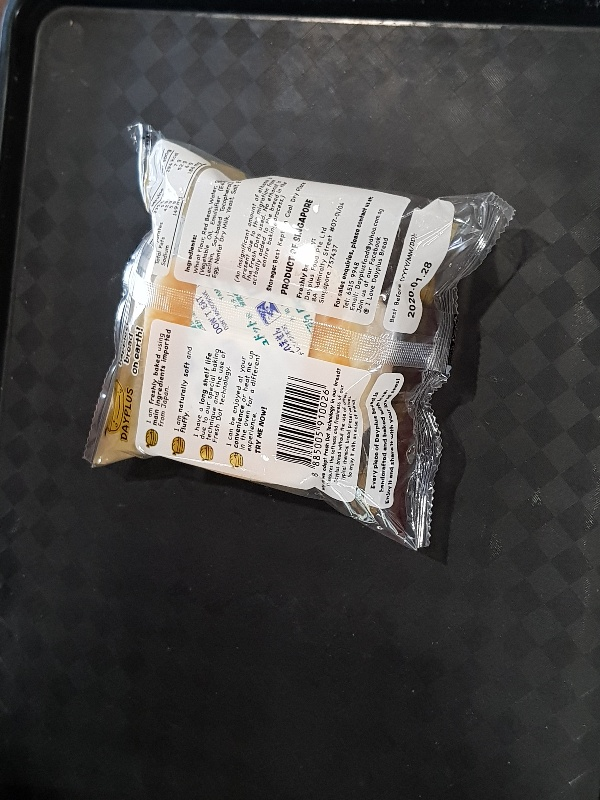Dayplus Red Bean: (81, 120, 515, 552)
